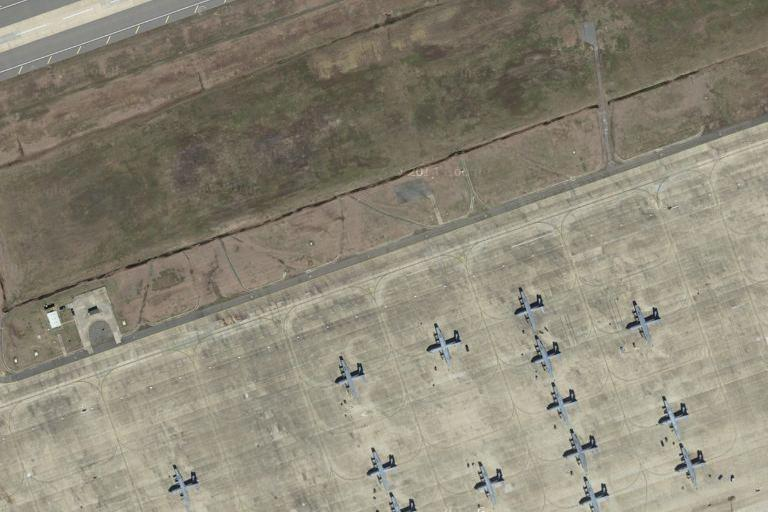C-130: (513, 285, 549, 333), (673, 443, 709, 490), (165, 464, 204, 507), (560, 427, 597, 472), (471, 461, 507, 507), (626, 299, 662, 345), (574, 474, 616, 512), (331, 356, 366, 400), (658, 394, 692, 439), (426, 322, 461, 365), (365, 448, 399, 492), (528, 333, 561, 377), (548, 381, 580, 426)
